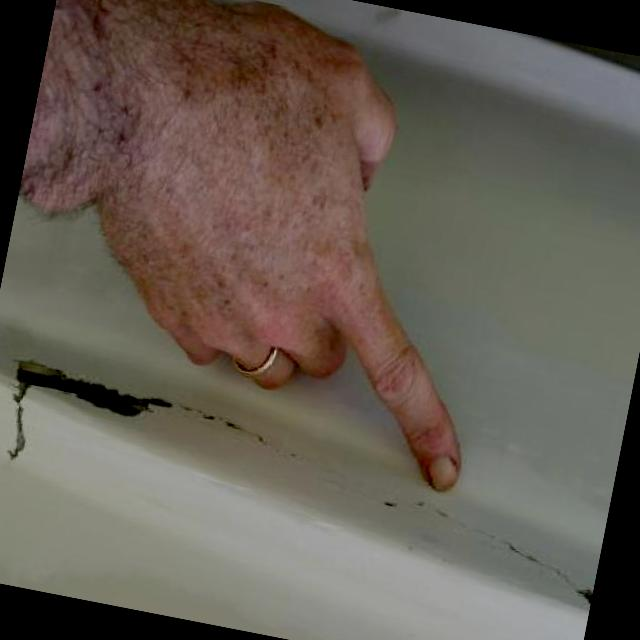crack: (320, 479, 594, 607), (5, 358, 174, 464), (175, 399, 349, 478)
